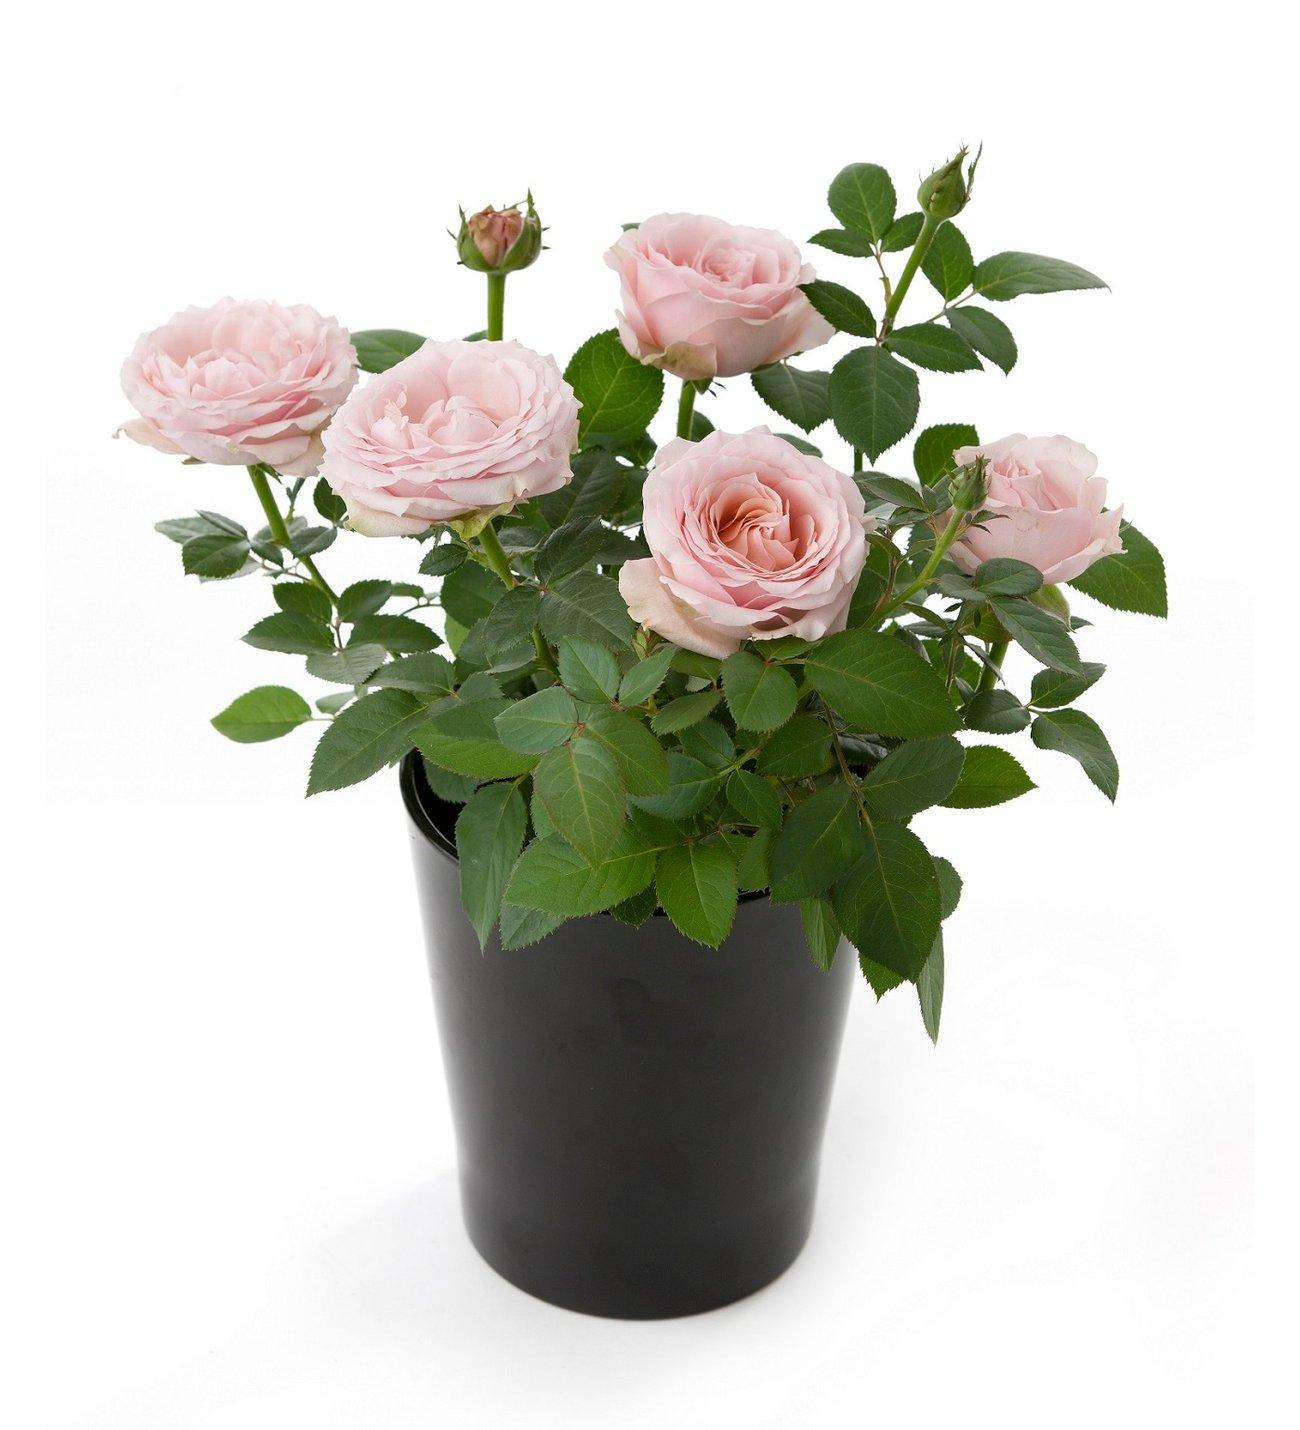Rose: (85, 244, 347, 504), (631, 411, 887, 660), (321, 301, 577, 548), (605, 184, 854, 404), (941, 397, 1131, 593)
